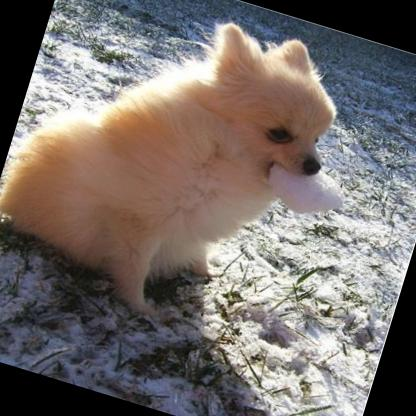Pomeranian: (0, 0, 356, 356)
